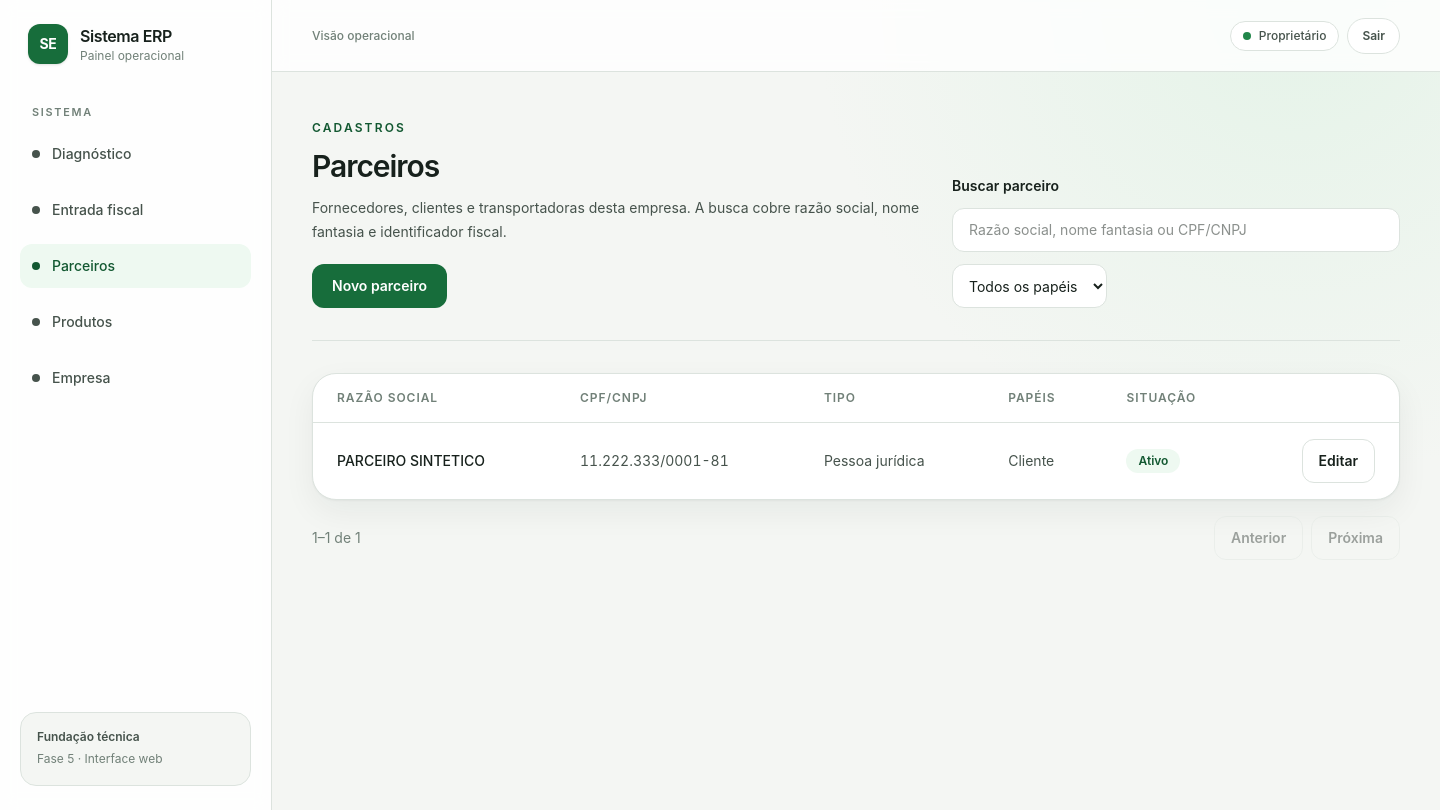
Test case: edição de cadastros › bloqueia o envio do parceiro sem nenhum papel
The image size is (1440, 810).
Click the button with aria-label "Editar PARCEIRO SINTETICO".
click(1338, 461)  # box 1302,439 -> 1375,483
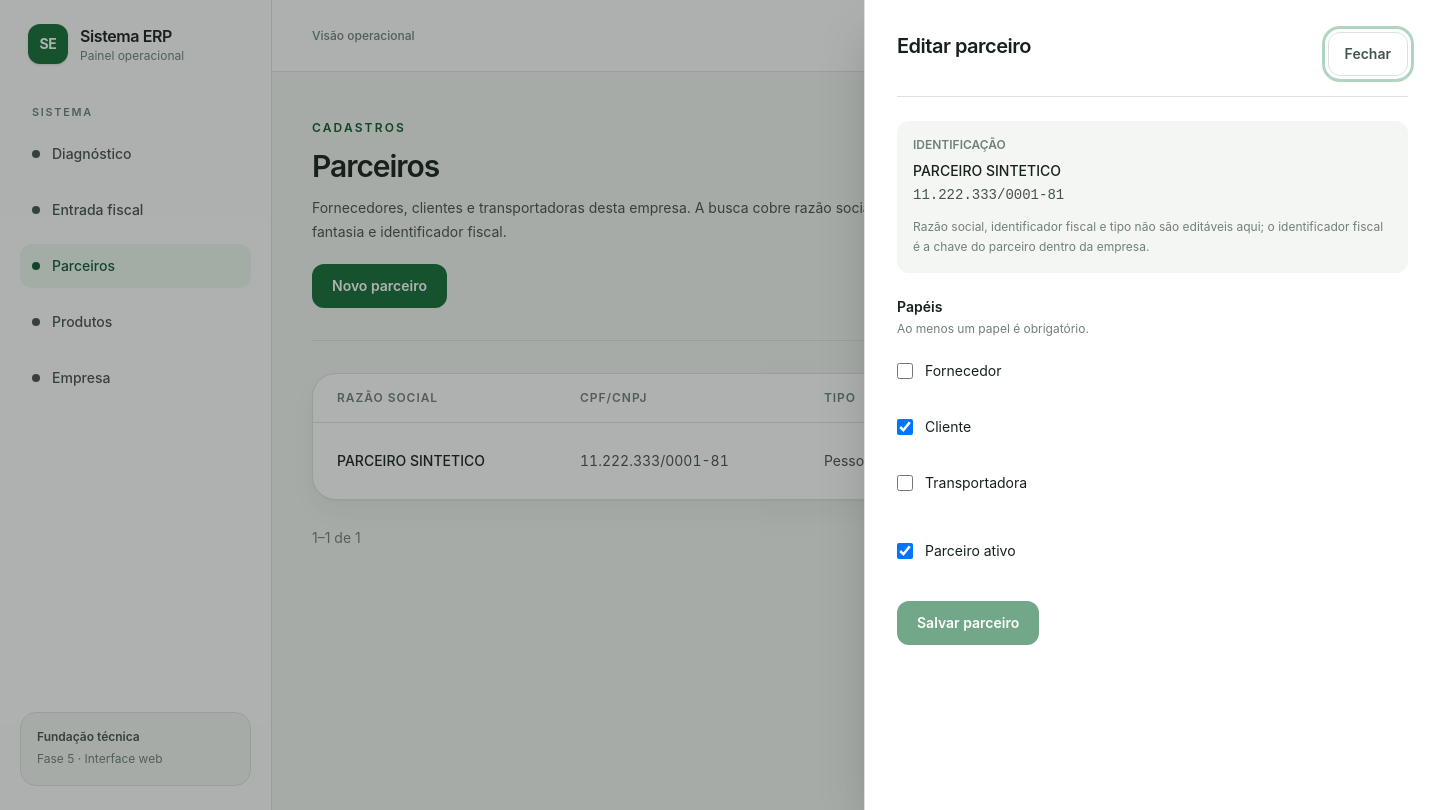
Click the checkbox labelled "Cliente".
click(905, 427)  # box 897,419 -> 913,435
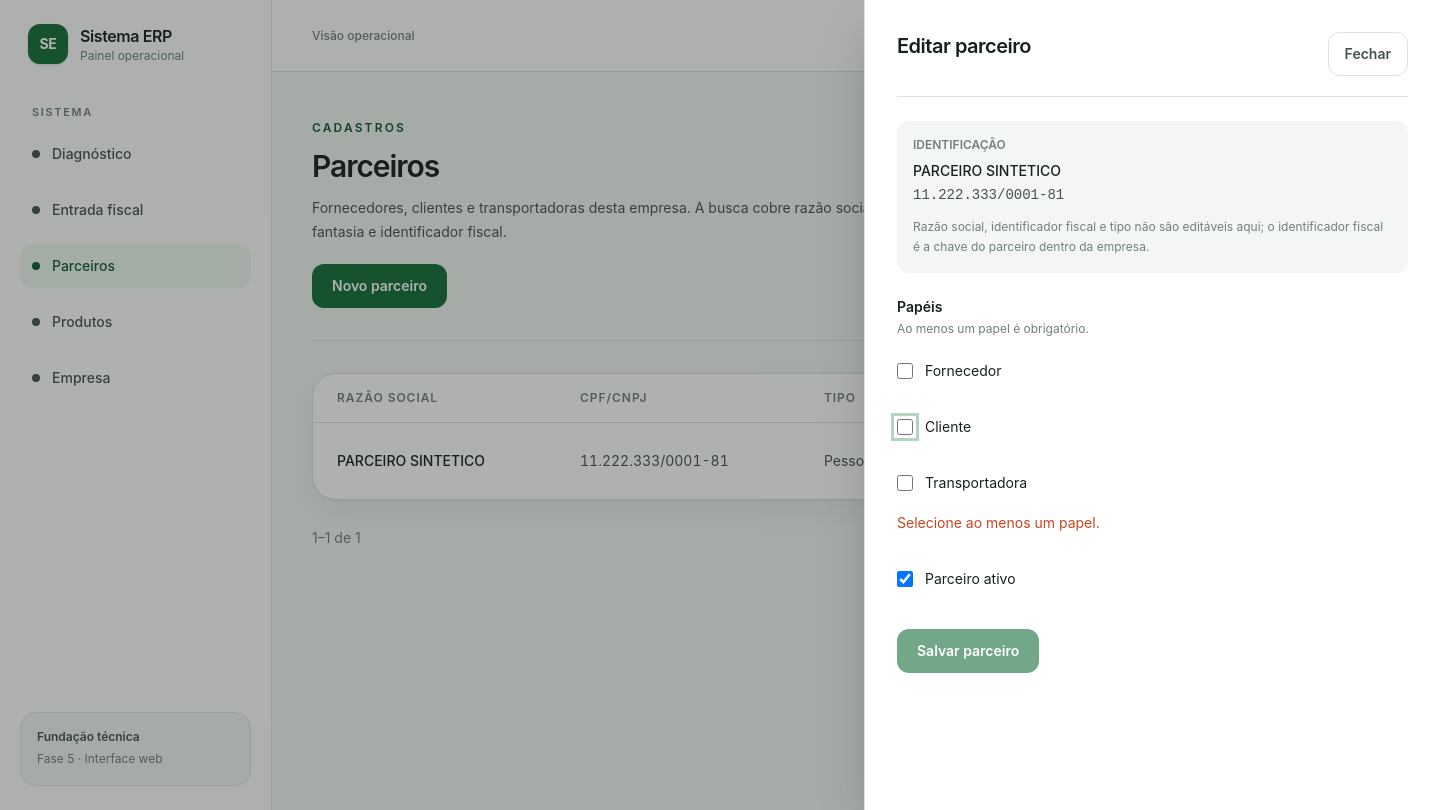
Result: the button "Salvar parceiro" is disabled at 897,629 -> 1039,673
Result: the text "Selecione ao menos um papel." is shown at 897,514 -> 1100,531
